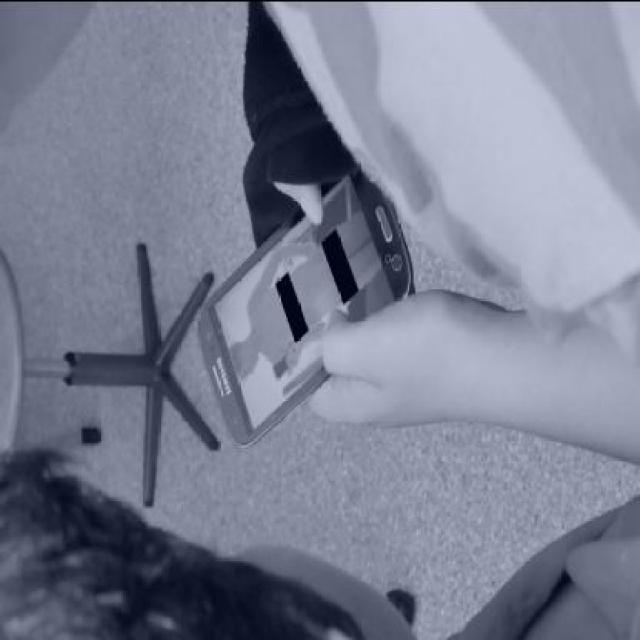phone: (192, 164, 416, 441)
